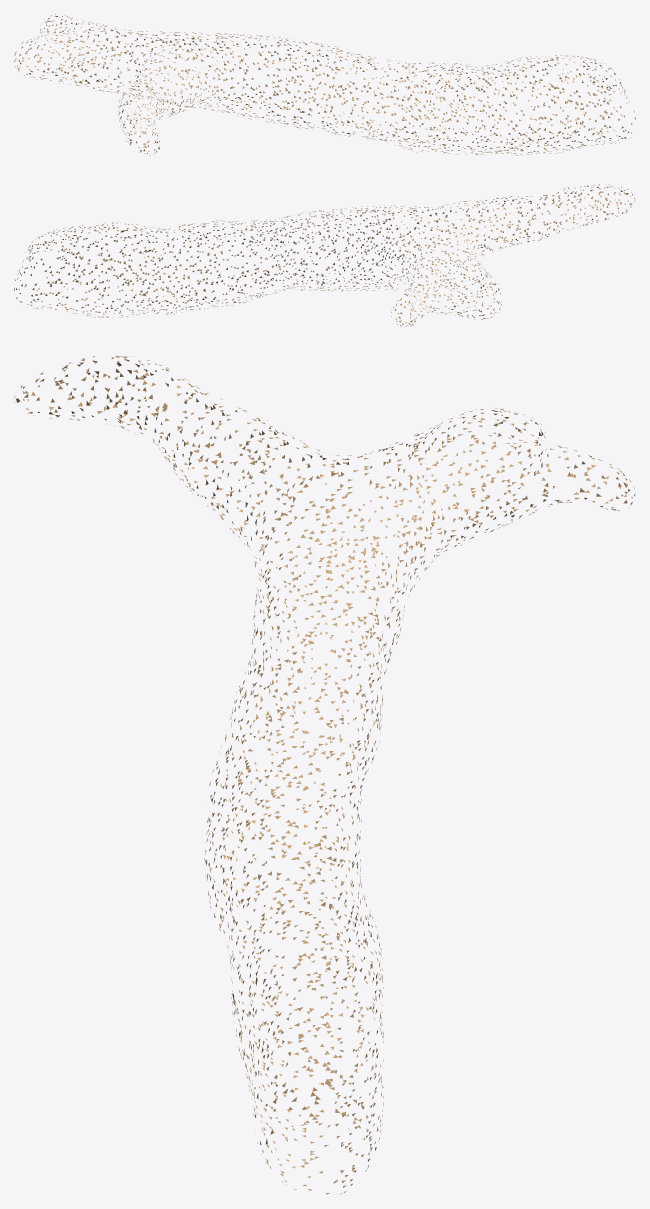
The model's file is morph_006.glb.
3 views of the same model, one above another, from view 1: azimuth 30°, elevation 25°; view 2: azimuth 150°, elevation 25°; view 3: azimuth 270°, elevation 25° (orthographic). The views are drawn at different scales.
Bounding box in the file's own units: 156 × 56.5 × 84.38.
